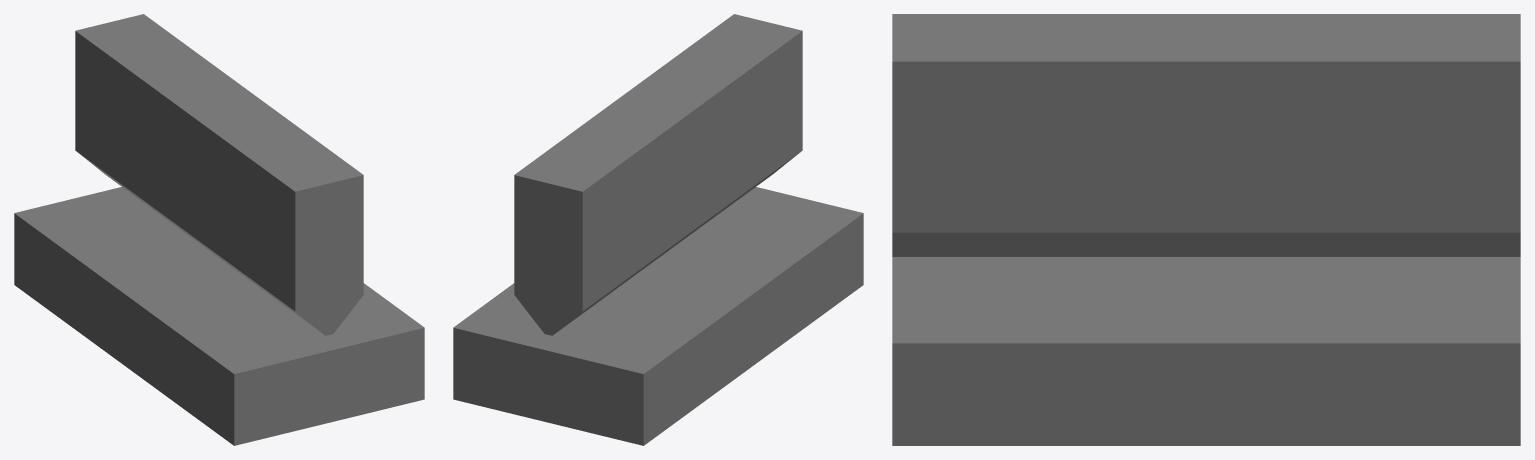
Rendered from Т8_Кромки.glb.
The picture shows the model from 3 angles, left to right: view 1: azimuth 30°, elevation 25°; view 2: azimuth 150°, elevation 25°; view 3: azimuth 270°, elevation 25°; orthographic projection. The views are drawn at different scales.
Parts seen in each view (by area): view 1: node_id3; view 2: node_id3; view 3: node_id3.
Boxes of the visible parts, left/top/right/bottom form: node_id3: left=14, top=14, right=424, bottom=445; node_id3: left=453, top=14, right=863, bottom=445; node_id3: left=892, top=14, right=1520, bottom=445.
Bounding box in the file's own units: 0.4267 × 0.512 × 0.8533.
1 material, 1 textured.
